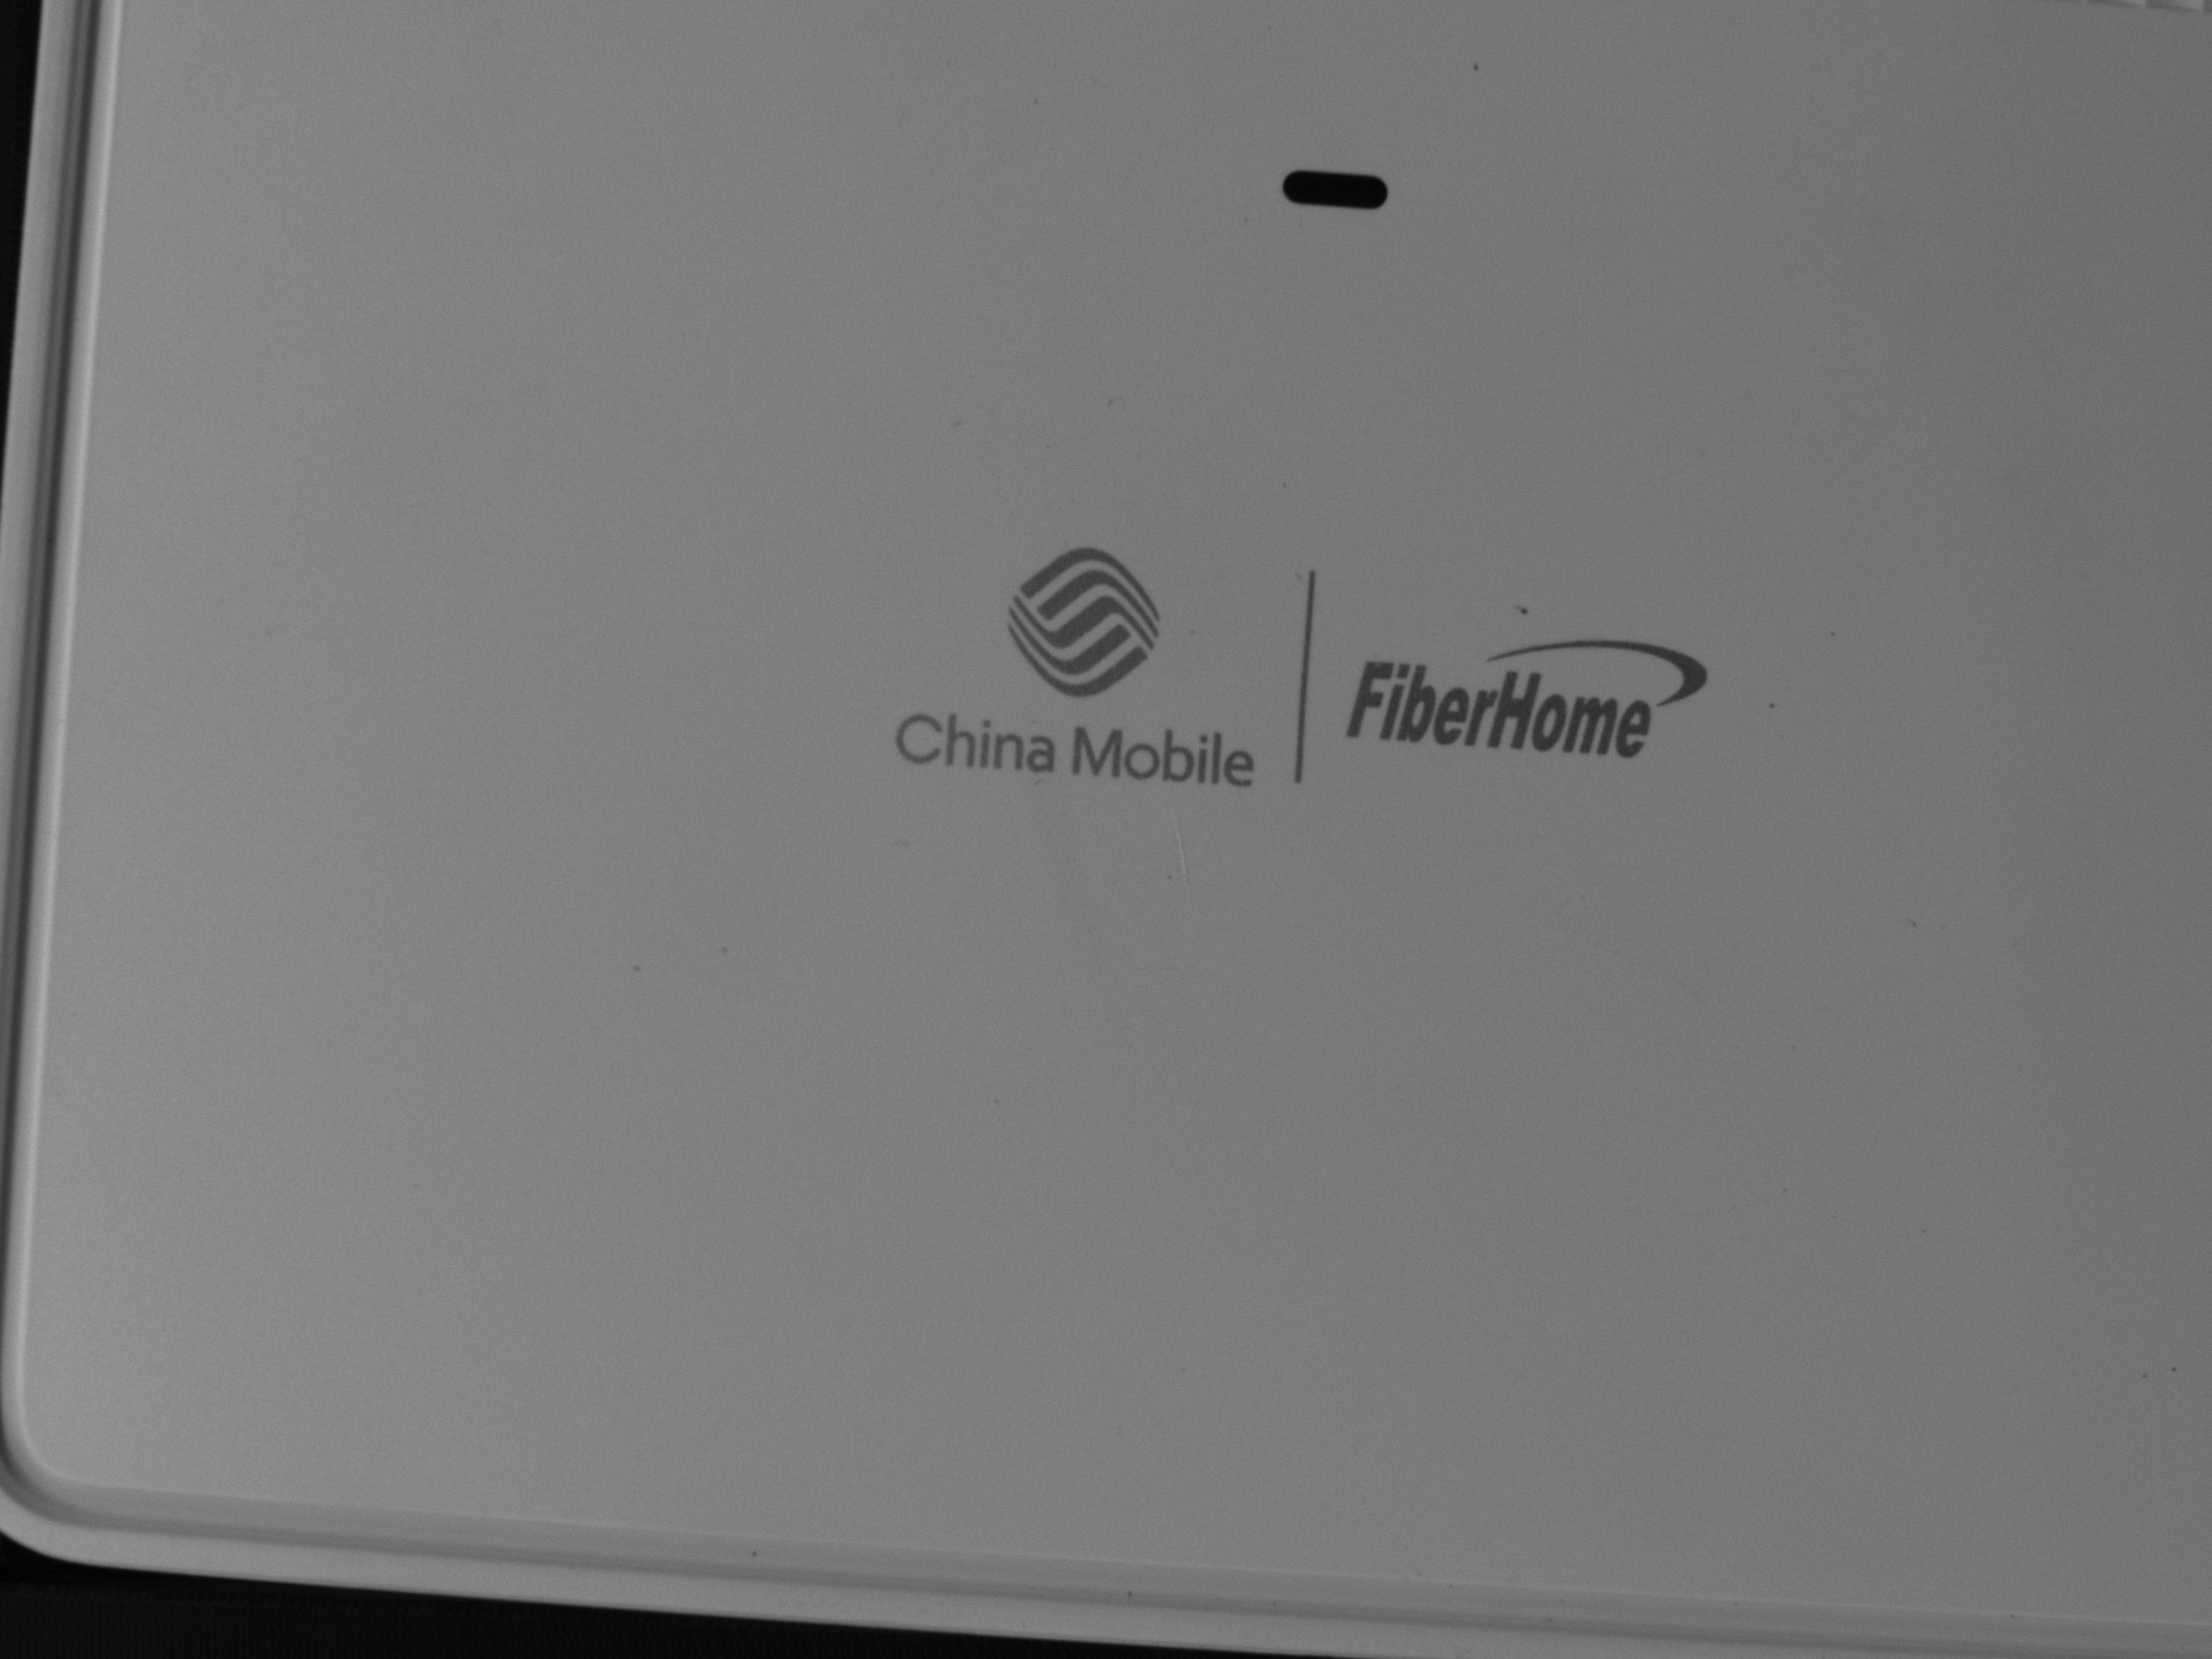BX_HG6371FMobileFiberhome: (846, 505, 1719, 786)
